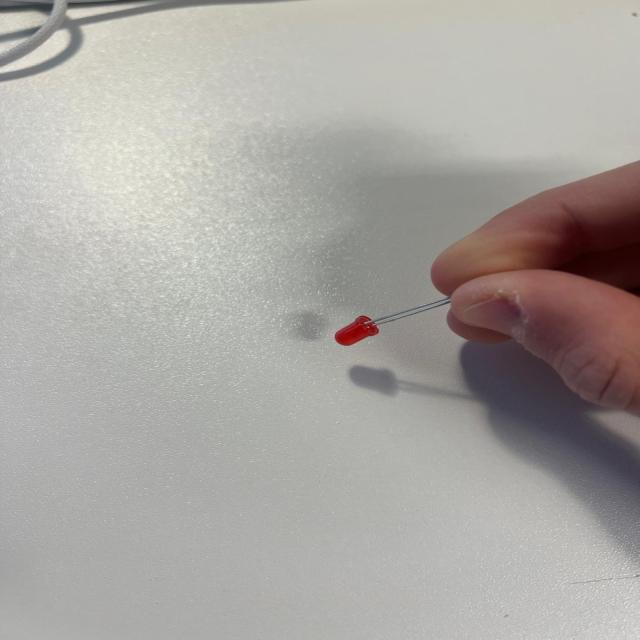REDLed: (288, 270, 452, 363)
